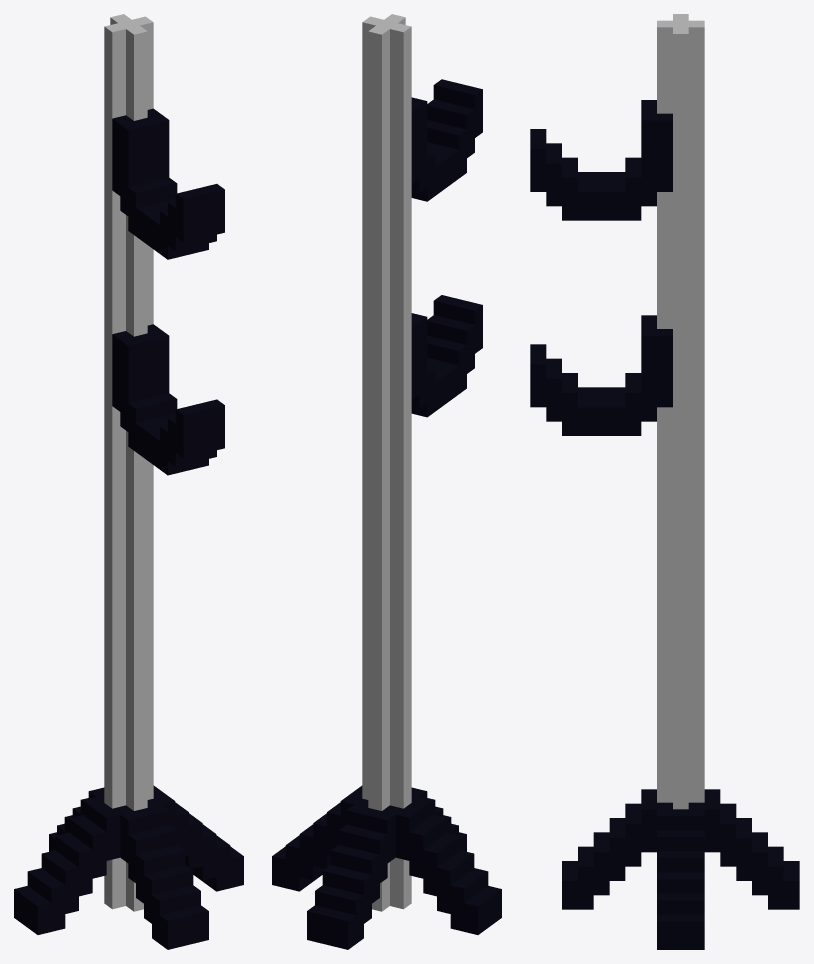
File: apoio_peso.obj
The picture shows the model from 3 angles, left to right: view 1: azimuth 30°, elevation 25°; view 2: azimuth 150°, elevation 25°; view 3: azimuth 270°, elevation 25°; orthographic projection.
Visible parts, largest first — view 1: apoio_peso; view 2: apoio_peso; view 3: apoio_peso.
Part boxes in pixels (x1,y1,x2,y2): apoio_peso: [14, 14, 243, 949]; apoio_peso: [272, 14, 501, 949]; apoio_peso: [530, 14, 799, 949].
Size of the model in its own units: 15 by 61 by 17.
1 material, 1 textured.
